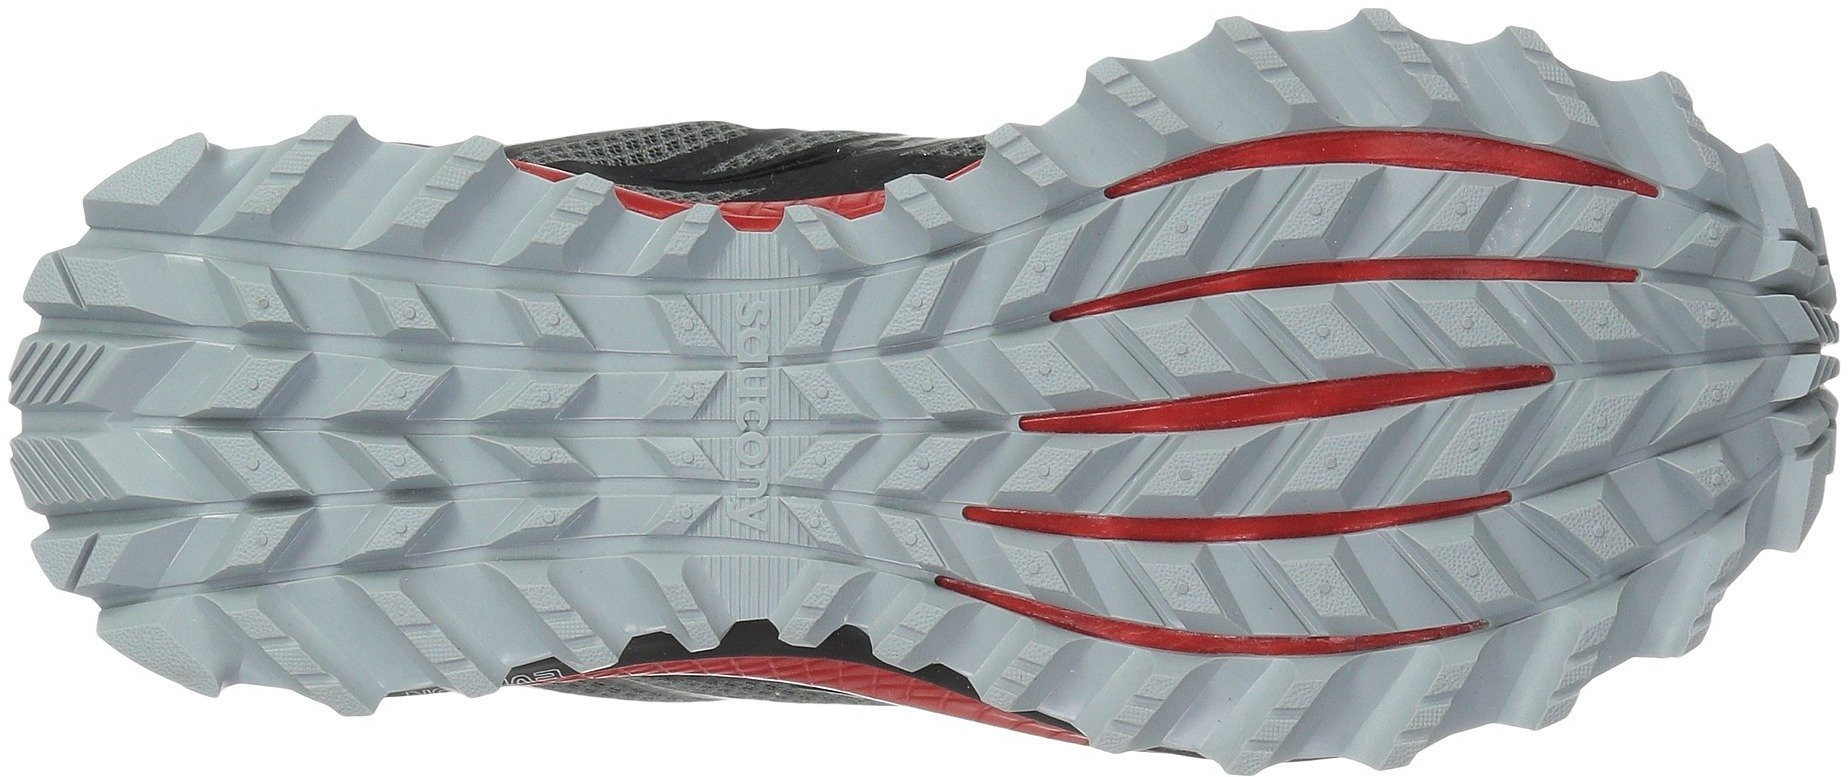quad: (1084, 179, 1471, 544), (245, 264, 570, 561), (1560, 370, 1664, 476)
